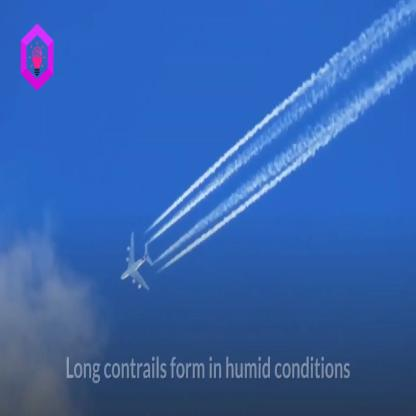plane: (116, 225, 162, 297)
